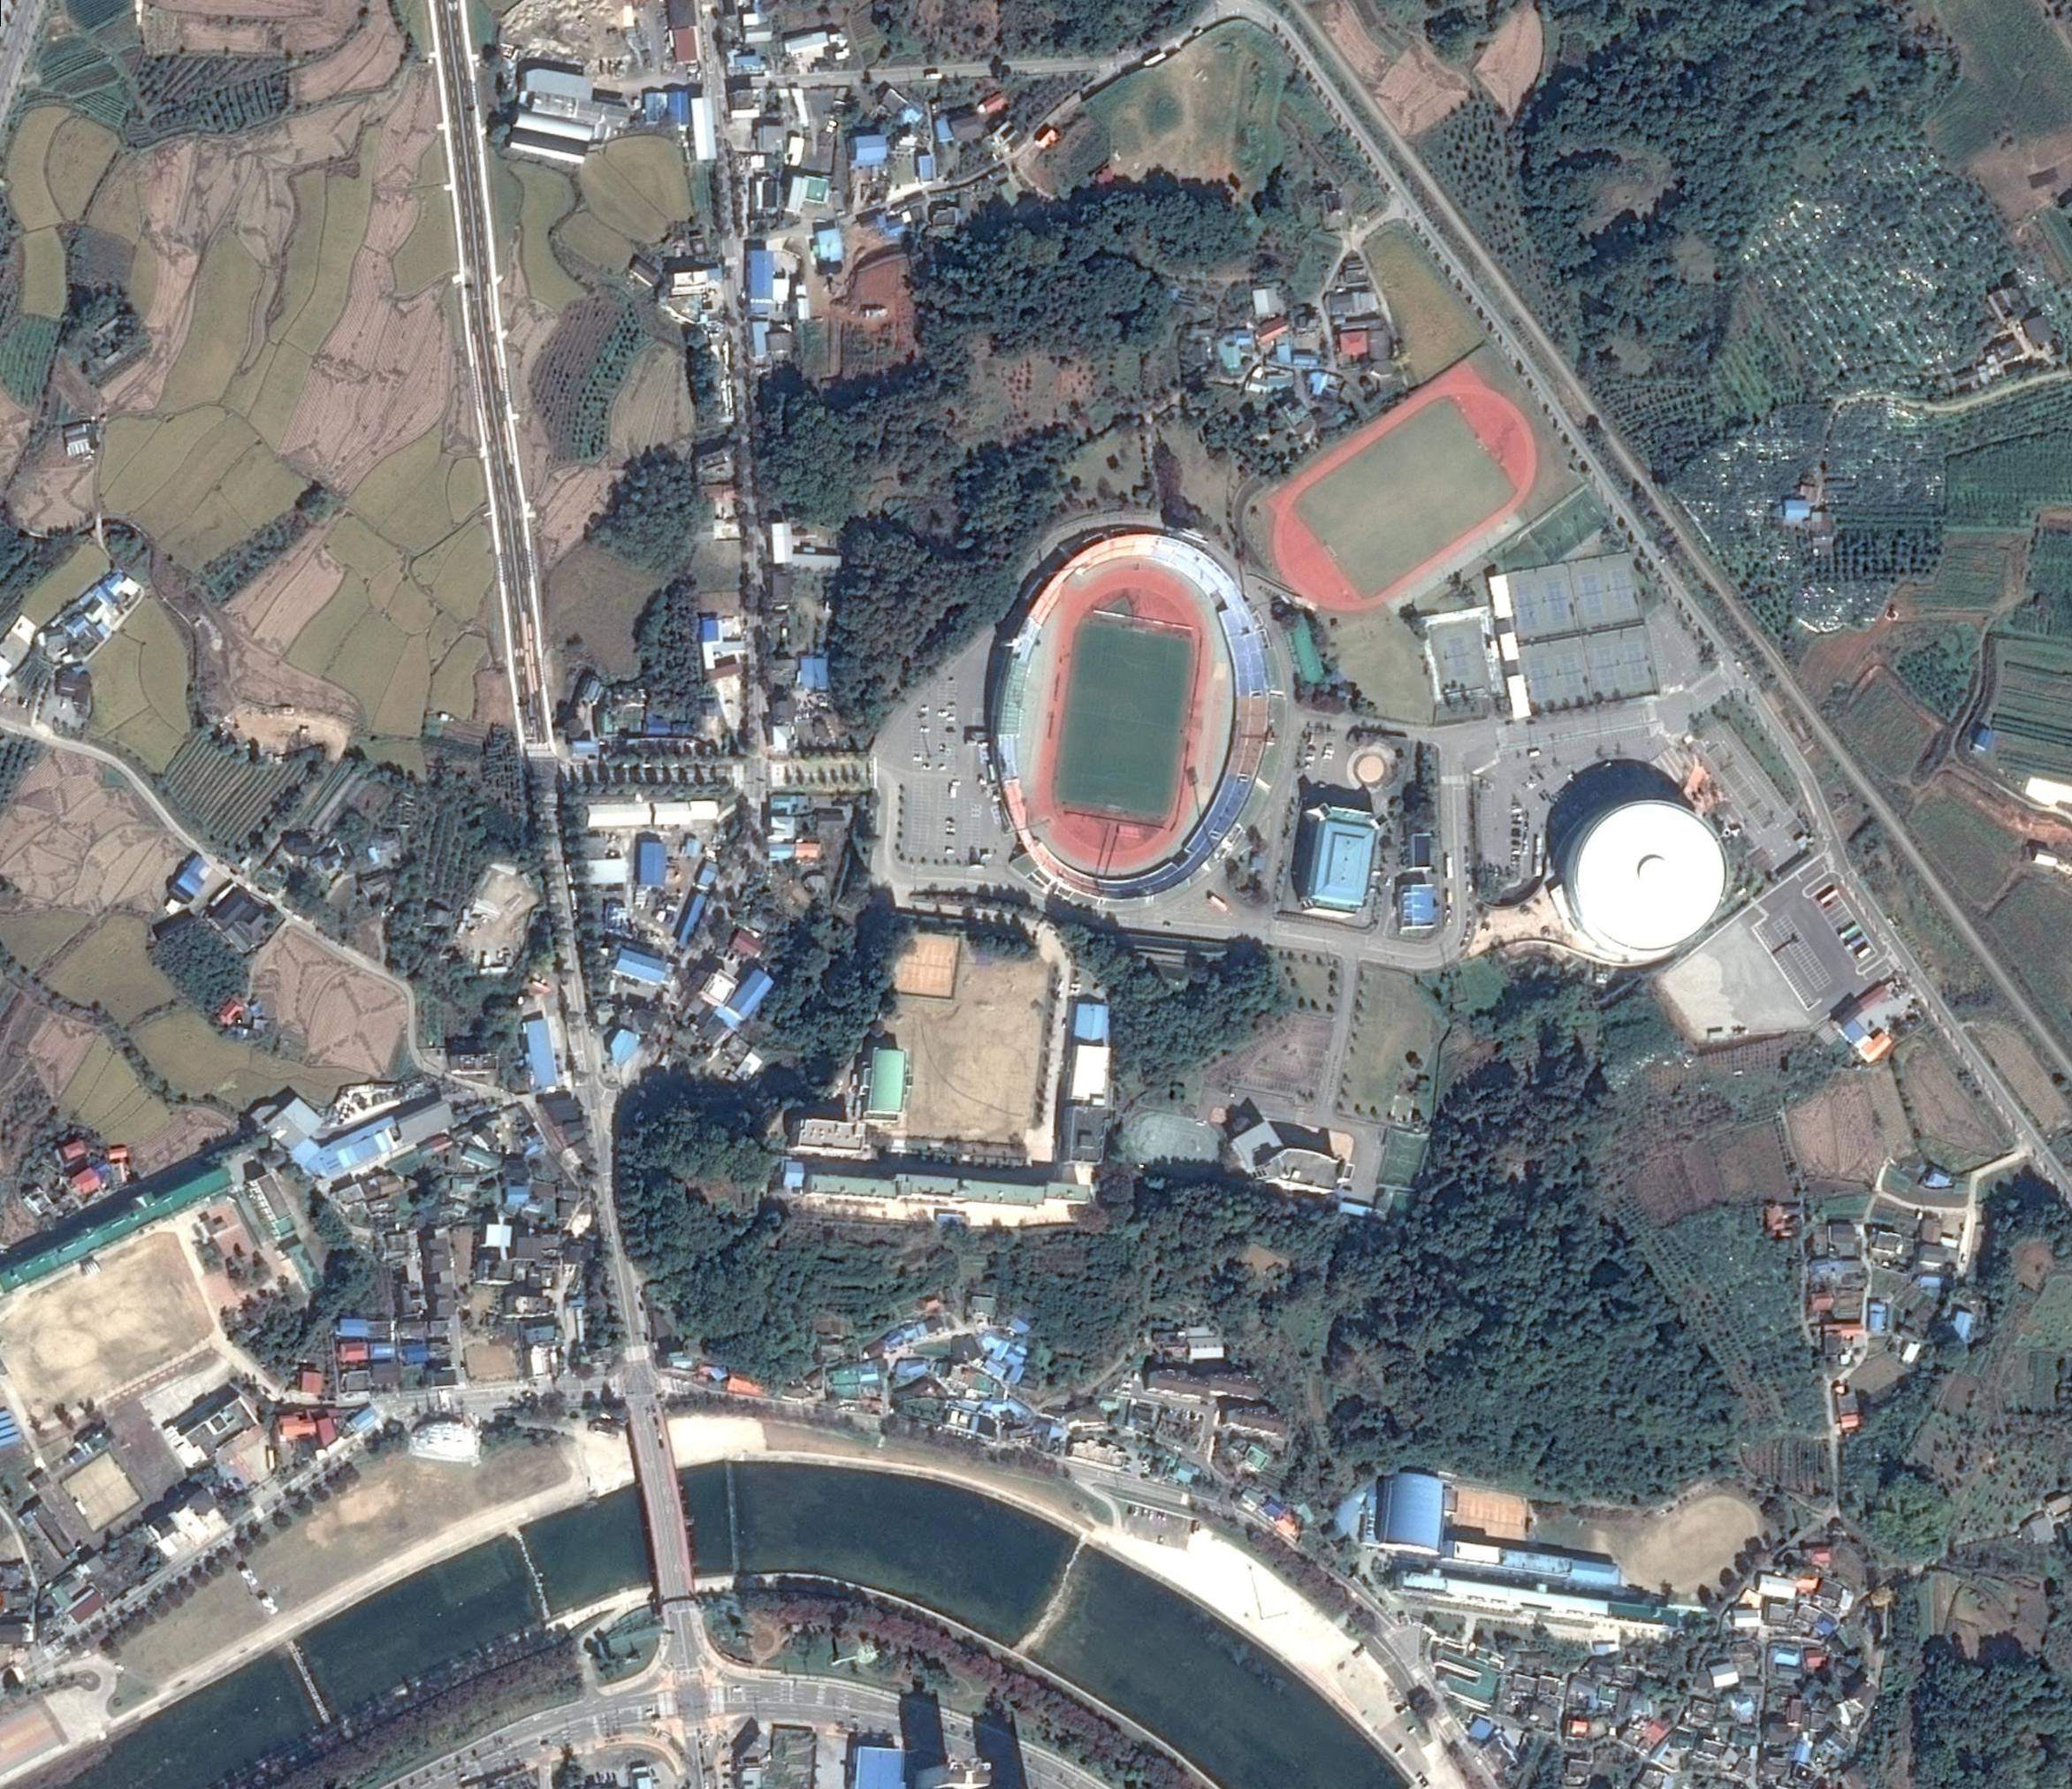bridge: (625, 1396, 696, 1595)
ground track field: (976, 511, 1288, 917), (1239, 354, 1565, 638), (1015, 562, 1223, 871), (1108, 1103, 1230, 1188)
soccer ball field: (1291, 397, 1521, 601), (1052, 612, 1195, 825), (1529, 486, 1614, 566), (1376, 1128, 1431, 1188)
tennis court: (1552, 650, 1586, 698), (1579, 573, 1609, 620), (1607, 568, 1637, 615), (1542, 578, 1572, 624), (1591, 645, 1621, 691), (1513, 583, 1542, 631), (1621, 642, 1649, 687), (1445, 636, 1473, 680), (1526, 656, 1552, 701)
